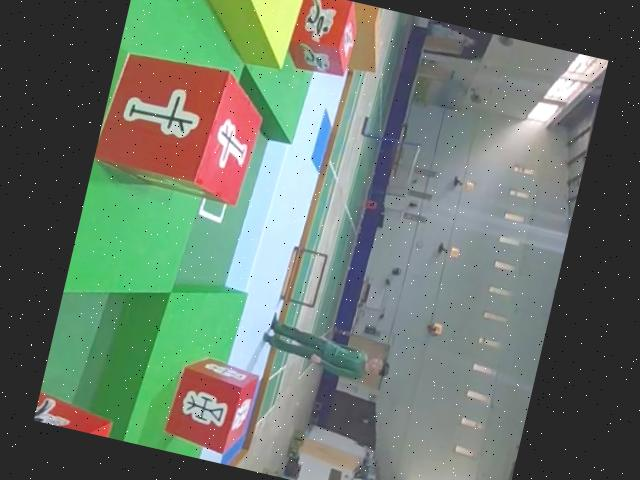R1: (280, 0, 363, 81), (33, 388, 119, 438)
R2 Real: (90, 41, 276, 207), (156, 347, 264, 461)
